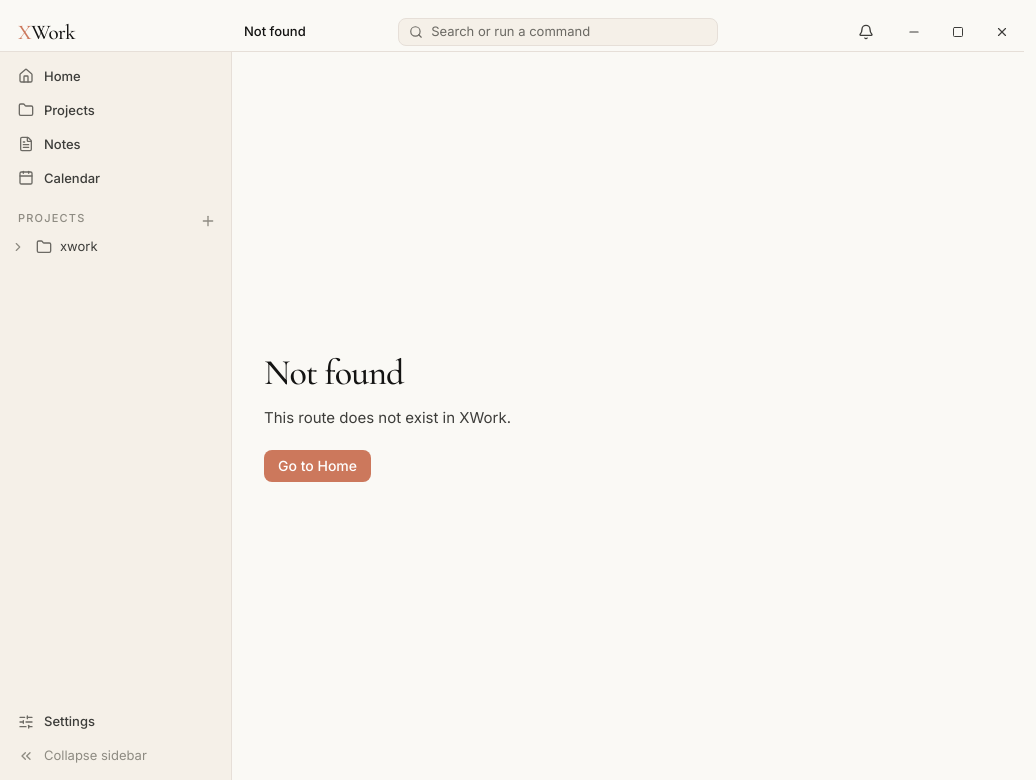
Test case: createAppRouter › renders the not-found placeholder with a Home action
Expected: the heading "Not found" is shown, [264,350,404,395]
Click the button "Go to Home" at (318, 466), box [264,450,371,482]
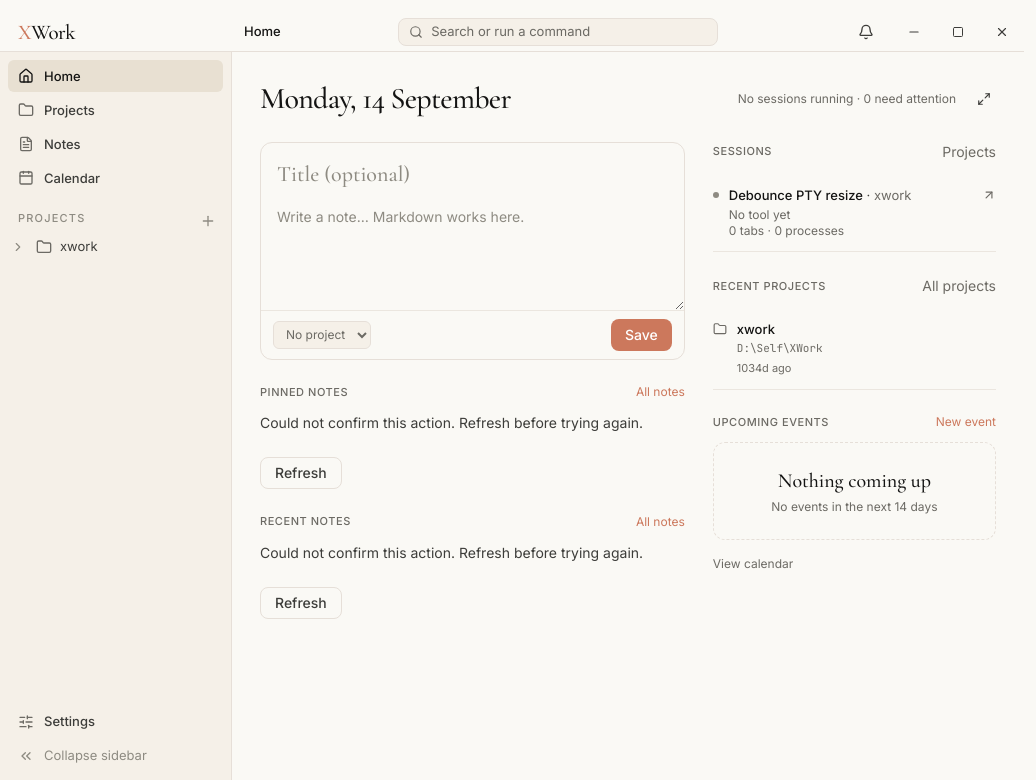
Result: the heading "Monday, 14 September" is shown at [260,80,511,118]
